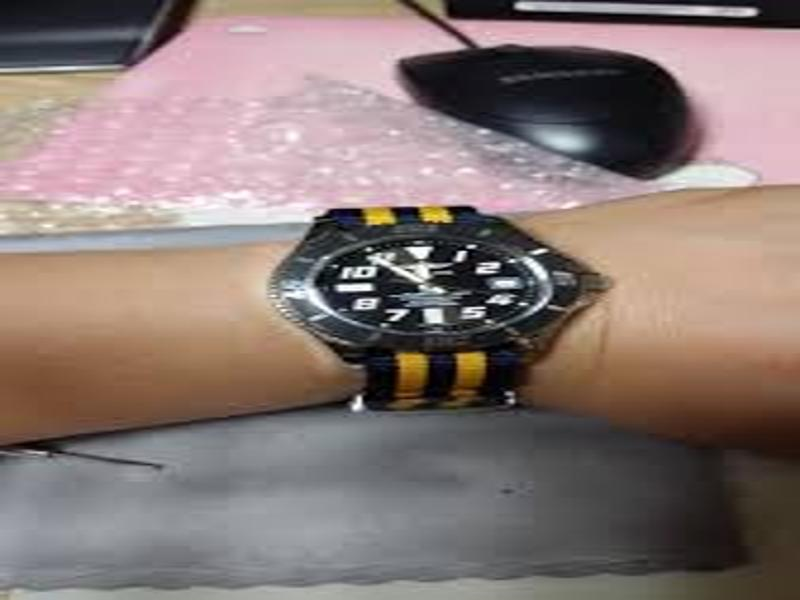watch: (265, 200, 613, 418)
